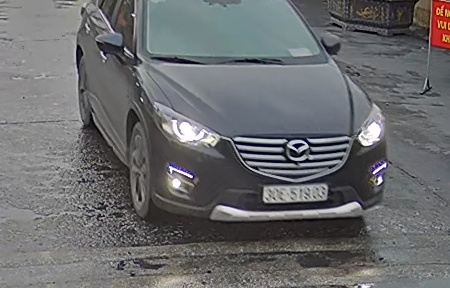vehicle plate: (261, 186, 333, 206)
